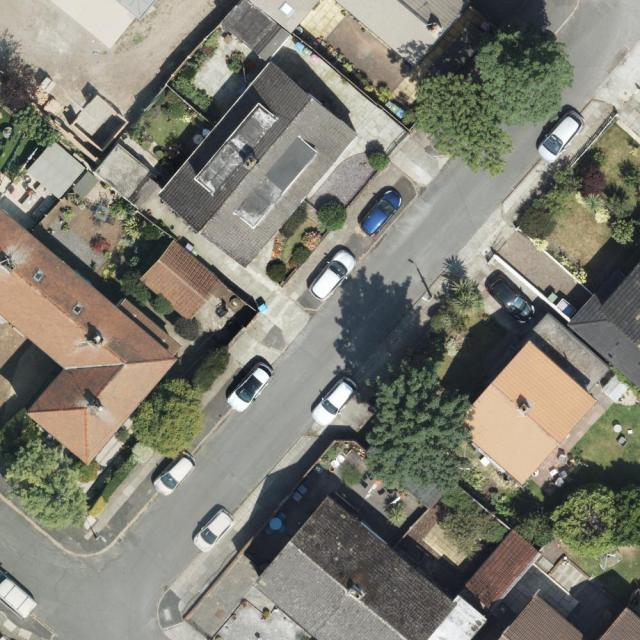roof: (0, 209, 181, 467), (253, 496, 540, 640), (161, 63, 356, 267), (457, 342, 596, 485), (566, 248, 640, 392), (337, 0, 473, 69), (137, 238, 220, 322), (218, 0, 321, 63), (498, 596, 594, 640), (598, 606, 640, 640)
skylight: (279, 0, 296, 17), (29, 267, 46, 282), (72, 304, 83, 315)
